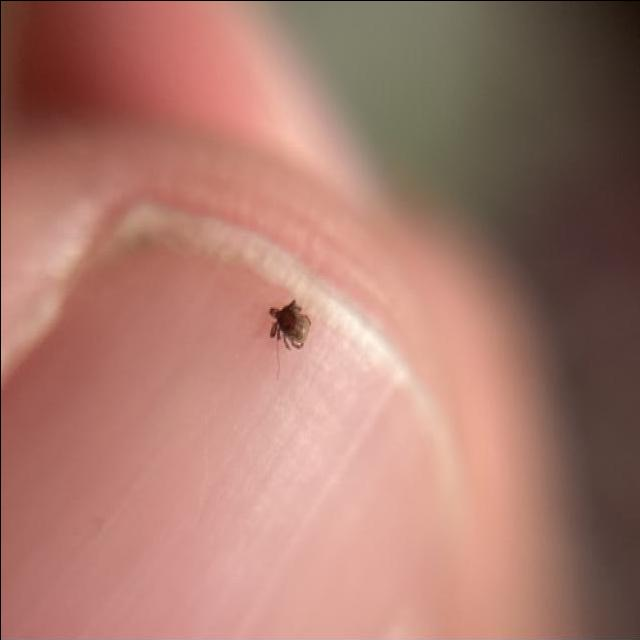Ixodes Ricinus-F: (268, 299, 311, 350)
